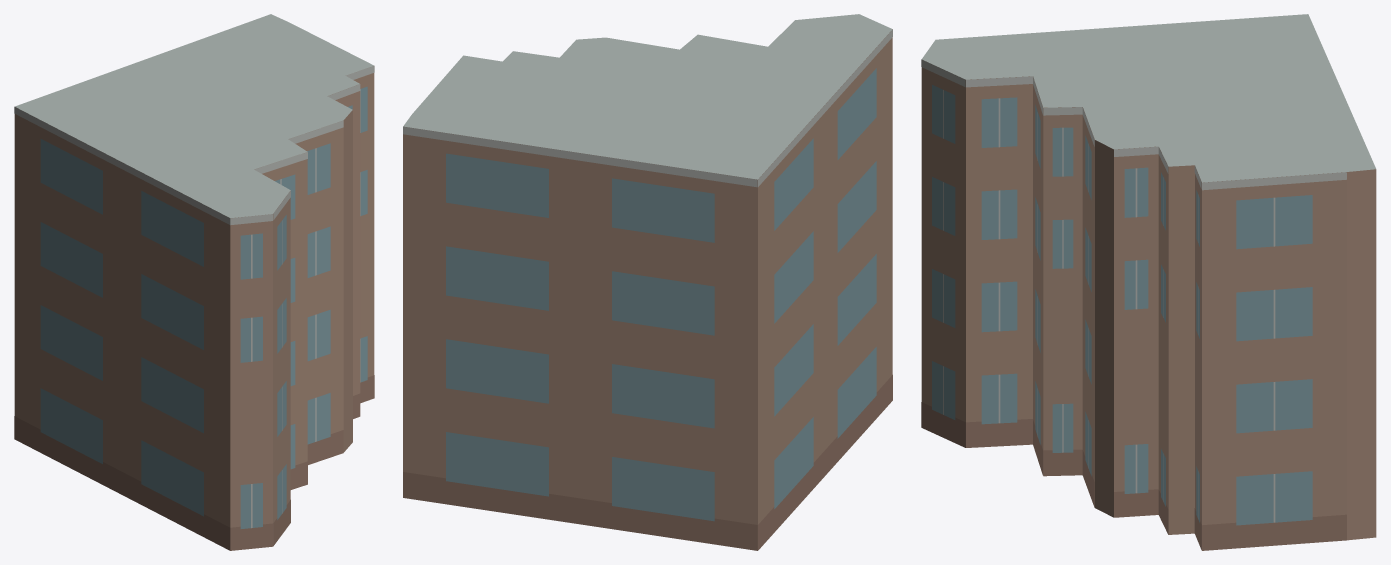
The model's file is survey-upis-33001734.glb.
3 renders of one model, left to right at view 1: azimuth 30°, elevation 25°; view 2: azimuth 150°, elevation 25°; view 3: azimuth 270°, elevation 25°, orthographic. The views are drawn at different scales.
Parts seen in each view (by area): view 1: survey-upis-33001734.tmp; view 2: survey-upis-33001734.tmp; view 3: survey-upis-33001734.tmp.
Part boxes in pixels (<box>): survey-upis-33001734.tmp: <box>14,14,374,550</box>; survey-upis-33001734.tmp: <box>403,14,892,550</box>; survey-upis-33001734.tmp: <box>921,14,1376,550</box>.
Bounding box in the file's own units: 11.39 × 11.6 × 12.99.
